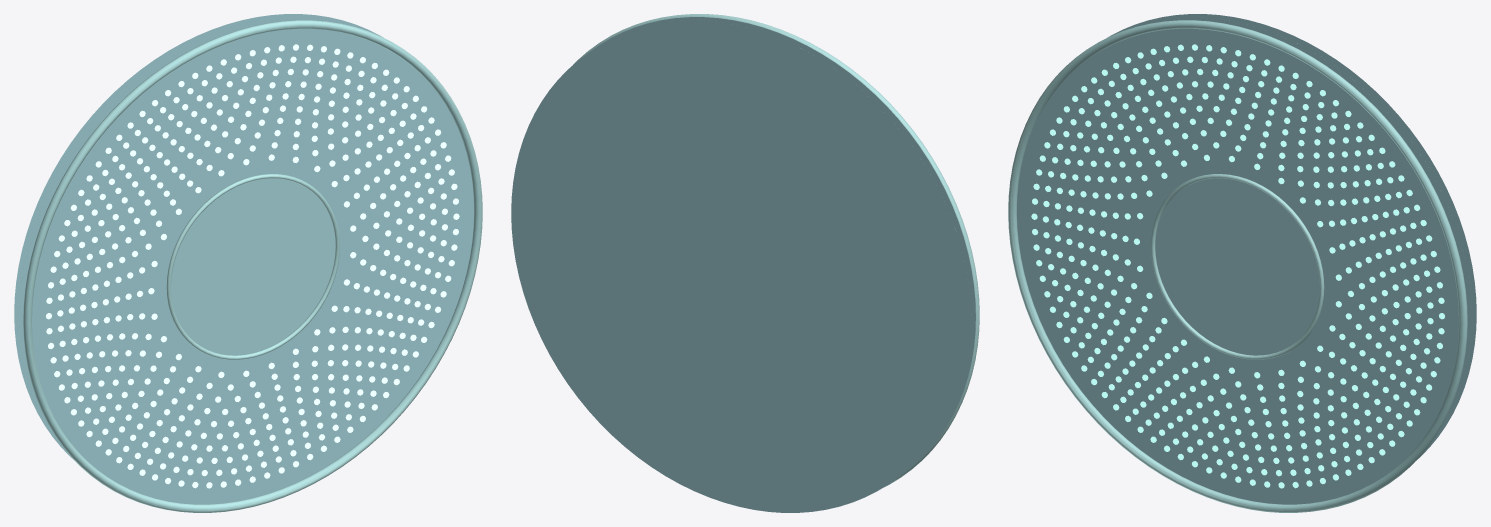
File: miyosmart-lens.glb
3 renders of one model, left to right at view 1: azimuth 30°, elevation 25°; view 2: azimuth 150°, elevation 25°; view 3: azimuth 330°, elevation 25°, orthographic.
Visible parts, largest first — view 1: MiYOSMART lens body, Central clear zone, DIMS microsegments, Lens rim, Central zone rim; view 2: MiYOSMART lens body, Lens rim; view 3: MiYOSMART lens body, Central clear zone, DIMS microsegments, Lens rim, Central zone rim.
Boxes of the visible parts, box(x1,y1,x2,y2) form: MiYOSMART lens body: box(14, 14, 478, 509); Central clear zone: box(171, 178, 335, 355); DIMS microsegments: box(46, 44, 459, 488); Lens rim: box(23, 20, 482, 512); Central zone rim: box(166, 174, 339, 359); MiYOSMART lens body: box(511, 17, 975, 512); Lens rim: box(573, 14, 979, 487); MiYOSMART lens body: box(1012, 14, 1476, 509); Central clear zone: box(1155, 178, 1319, 355); DIMS microsegments: box(1031, 44, 1444, 488); Lens rim: box(1008, 20, 1467, 512); Central zone rim: box(1151, 174, 1324, 359).
Size of the model in its own units: 4.23 by 4.23 by 0.2133.
